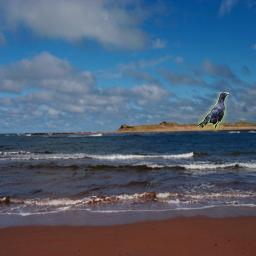Crow: (198, 92, 229, 132)
